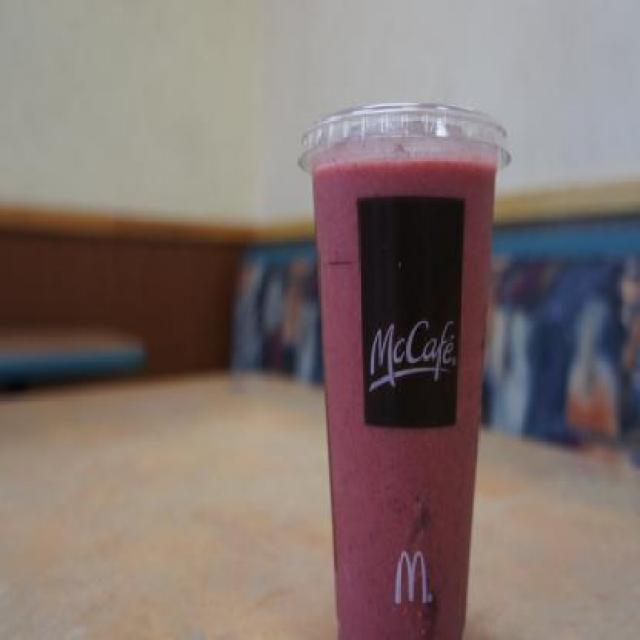Juice: (312, 146, 498, 640)
